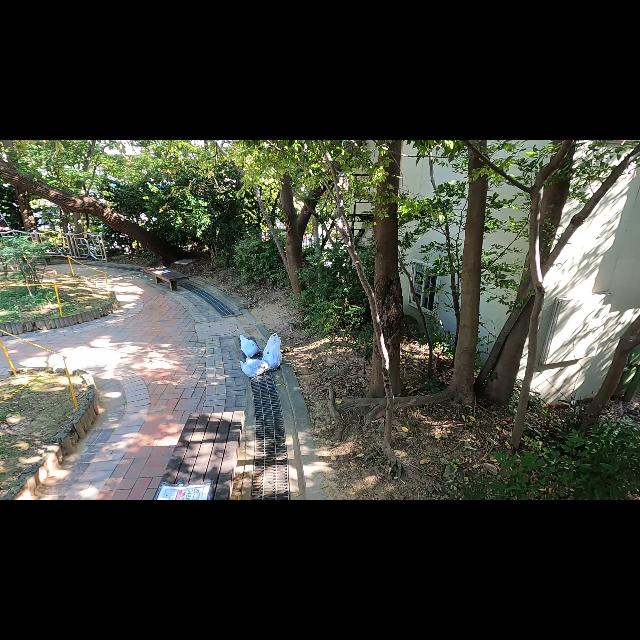trash: (238, 356, 268, 378), (262, 342, 282, 373), (239, 334, 261, 358), (263, 331, 283, 355)
